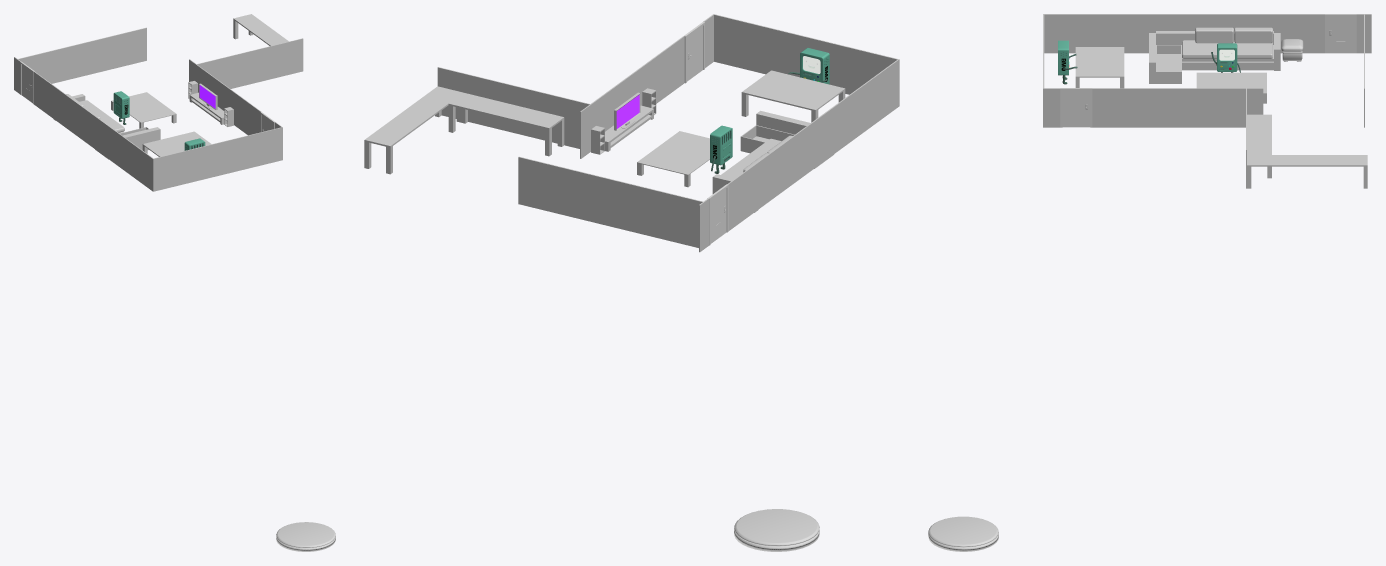
Rendered from Appartement.glb.
3 views of the same model, side by side, from view 1: azimuth 30°, elevation 25°; view 2: azimuth 150°, elevation 25°; view 3: azimuth 270°, elevation 25° (orthographic). The views are drawn at different scales.
Visible parts, largest first — view 1: Mur, Plaque tournante, Canape, Table basse, Bureau 02, Table, Куб.010; view 2: Mur, Table, Bureau 02, Plaque tournante, Canape, Bureau 01, Table basse, Куб.016, Куб.010, Porte 02, Meuble TV, Porte (+1 smaller); view 3: Mur, Canape, Plaque tournante, Bureau 02, Table, Table basse, Porte, Bureau 01, Porte 02, Куб.010.
Boxes of the visible parts, x1,y1,x2,y2 form: Mur: [14, 27, 303, 191]; Plaque tournante: [276, 522, 335, 547]; Canape: [53, 94, 160, 159]; Table basse: [111, 92, 176, 128]; Bureau 02: [233, 14, 288, 46]; Table: [142, 131, 211, 156]; Куб.010: [113, 91, 129, 118]; Mur: [437, 14, 899, 252]; Table: [741, 70, 845, 122]; Bureau 02: [364, 86, 462, 174]; Plaque tournante: [734, 509, 819, 546]; Canape: [712, 110, 833, 212]; Bureau 01: [448, 92, 564, 156]; Table basse: [637, 131, 709, 187]; Куб.016: [800, 48, 829, 84]; Куб.010: [710, 125, 732, 165]; Porte 02: [710, 188, 726, 243]; Meuble TV: [605, 105, 653, 151]; Porte: [687, 26, 702, 81]; Mur: [1043, 14, 1371, 188]; Canape: [1149, 27, 1280, 83]; Plaque tournante: [928, 516, 998, 547]; Bureau 02: [1247, 155, 1367, 188]; Table: [1075, 47, 1124, 88]; Table basse: [1196, 72, 1266, 103]; Porte: [1062, 90, 1090, 127]; Bureau 01: [1247, 114, 1271, 178]; Porte 02: [1327, 16, 1354, 53]; Куб.010: [1217, 43, 1237, 71].
Bounding box in the file's own units: 9.18 × 14.24 × 12.59.
